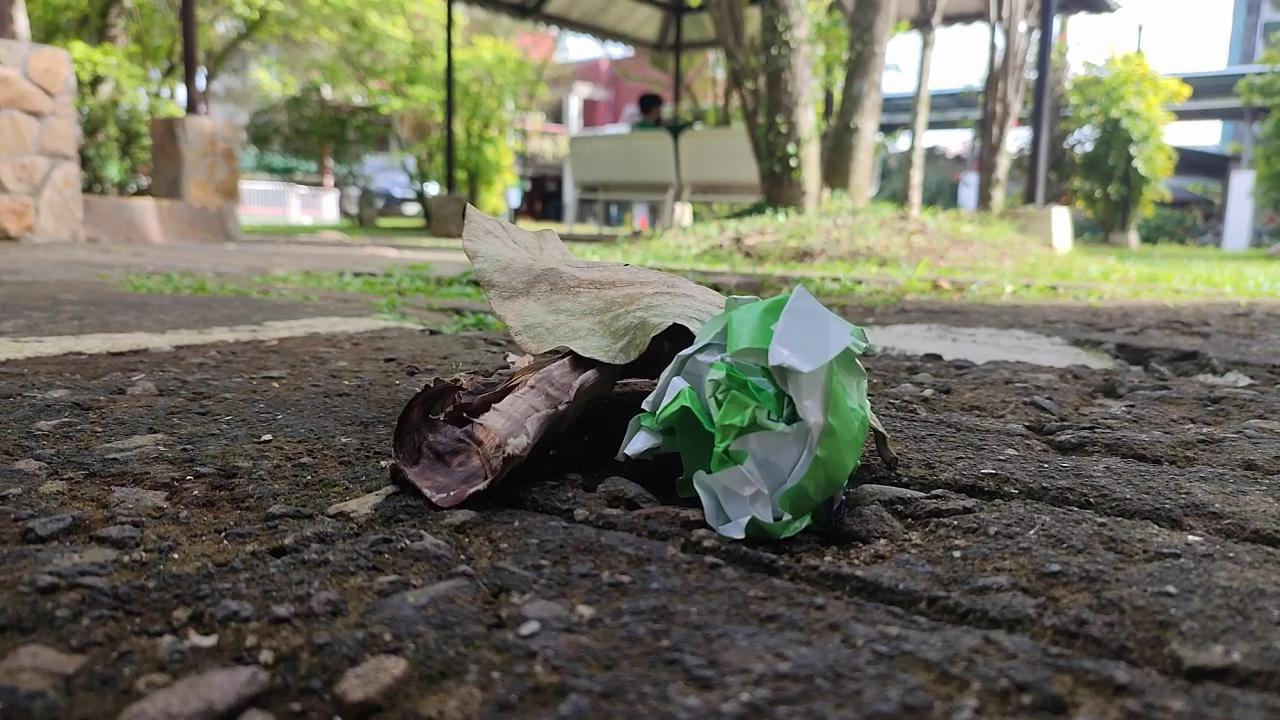Paper: (598, 262, 888, 558)
